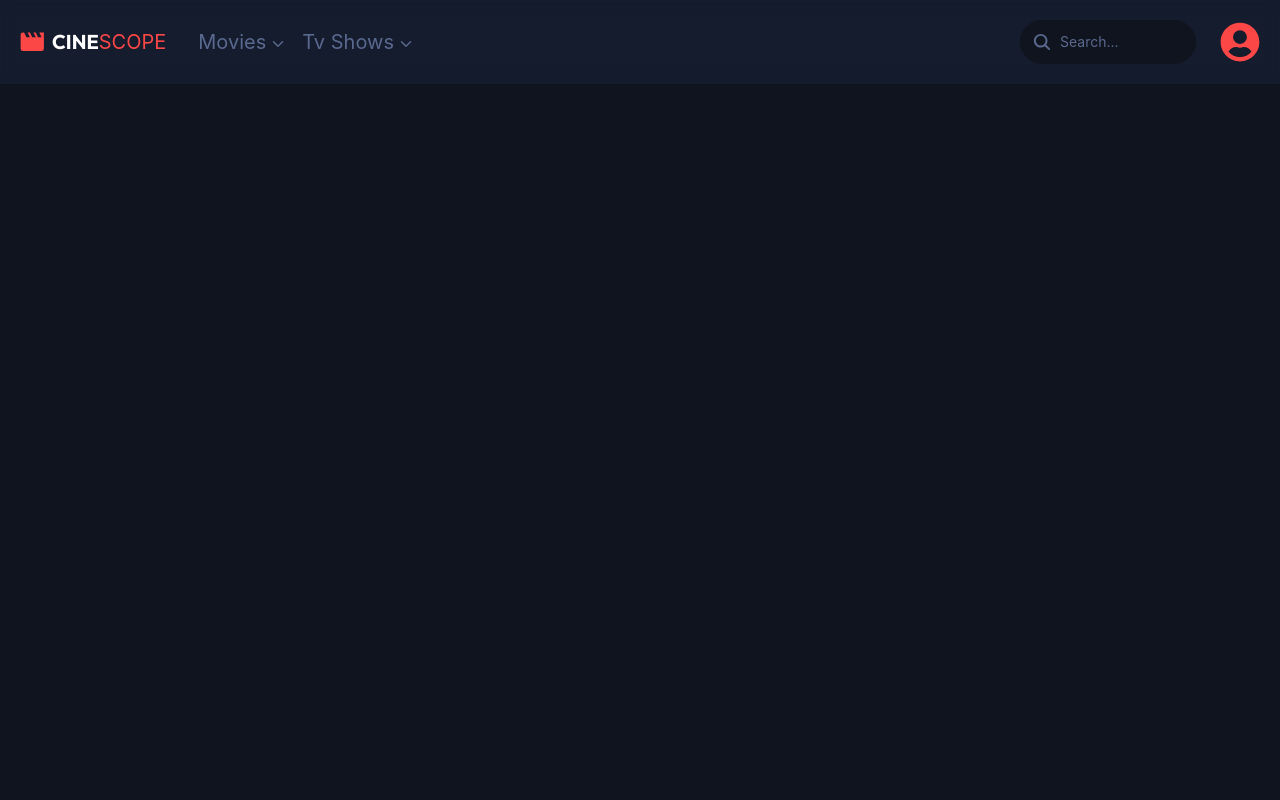
Test: Navbar dropdowns › closes the dropdown on Escape and on an outside click
Step 1. Click the button with aria-label "movies menu" → (242, 42), box [198,28,286,56]
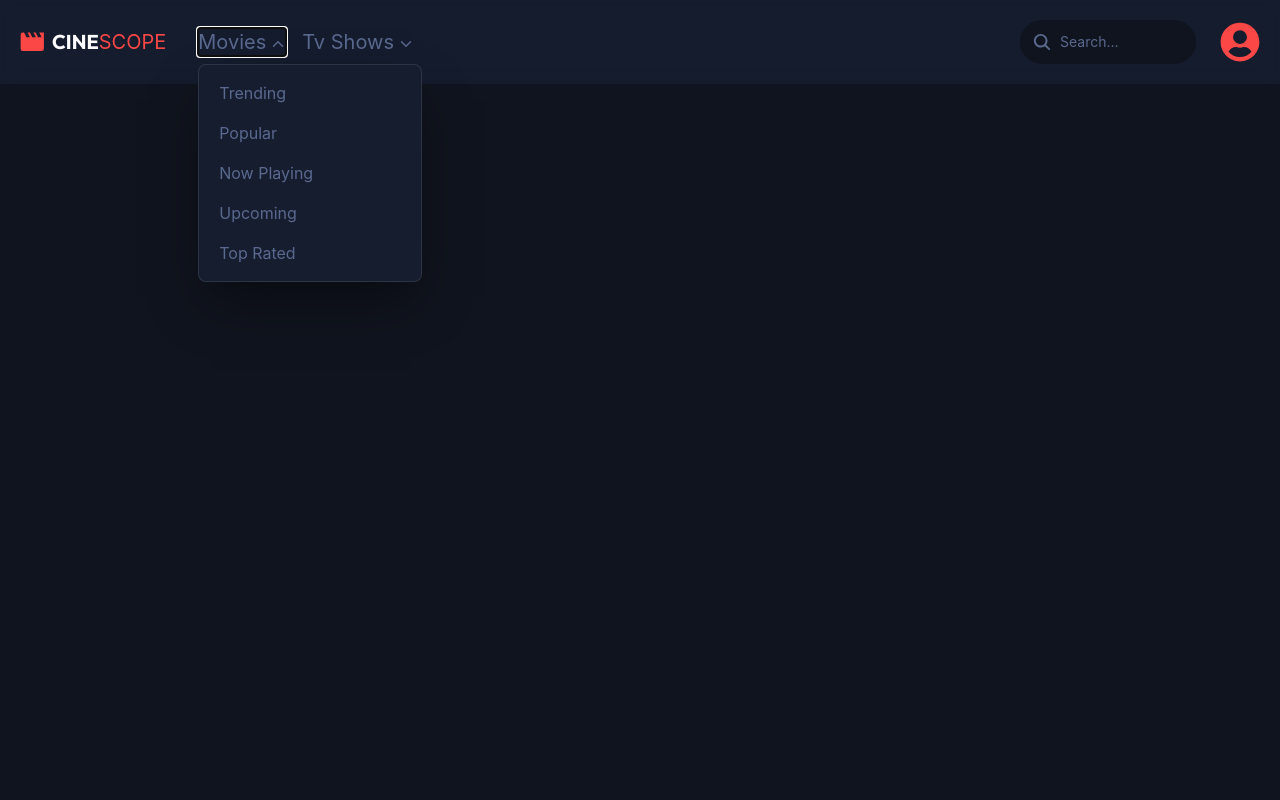
Check: the menu item "upcoming" is shown, box [219,203,297,223]
Step 2. Press Escape
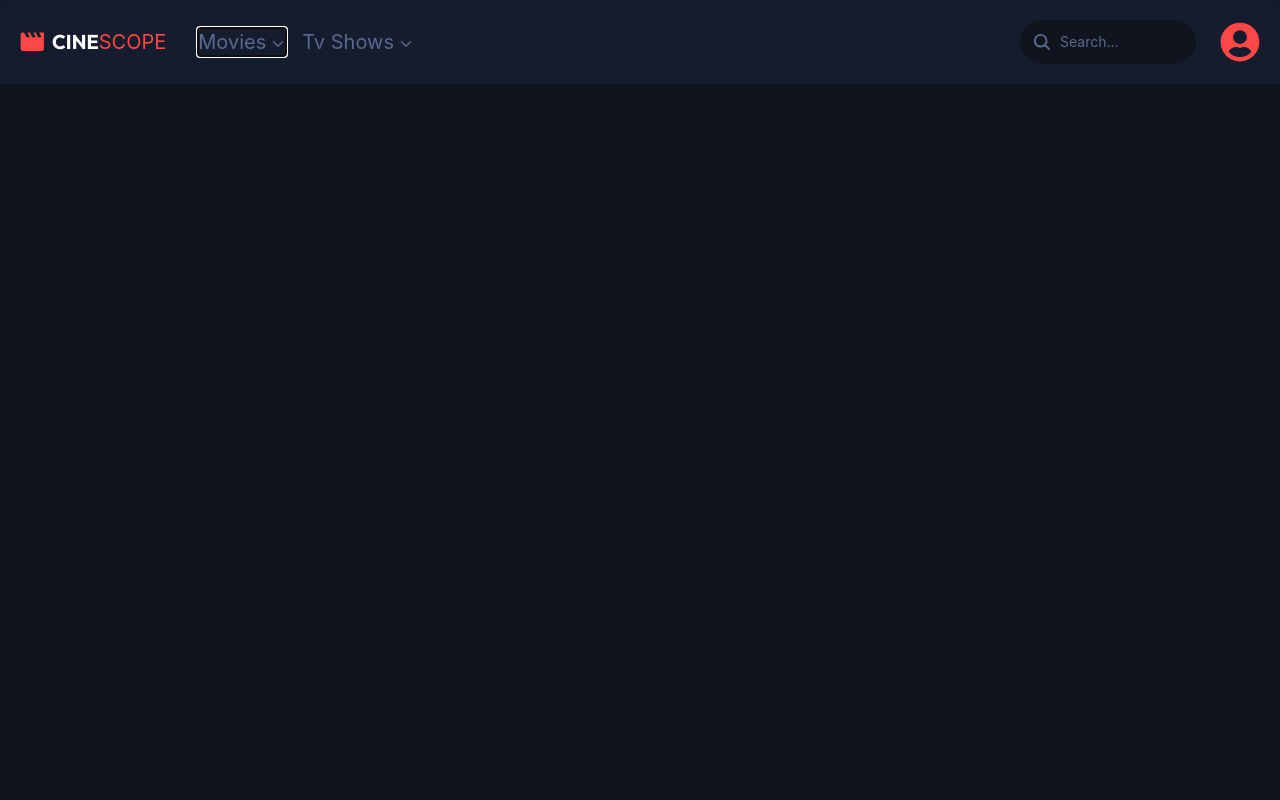
Check: the menu item "upcoming" is gone
Step 3. Click the button with aria-label "movies menu" → (242, 42), box [198,28,286,56]
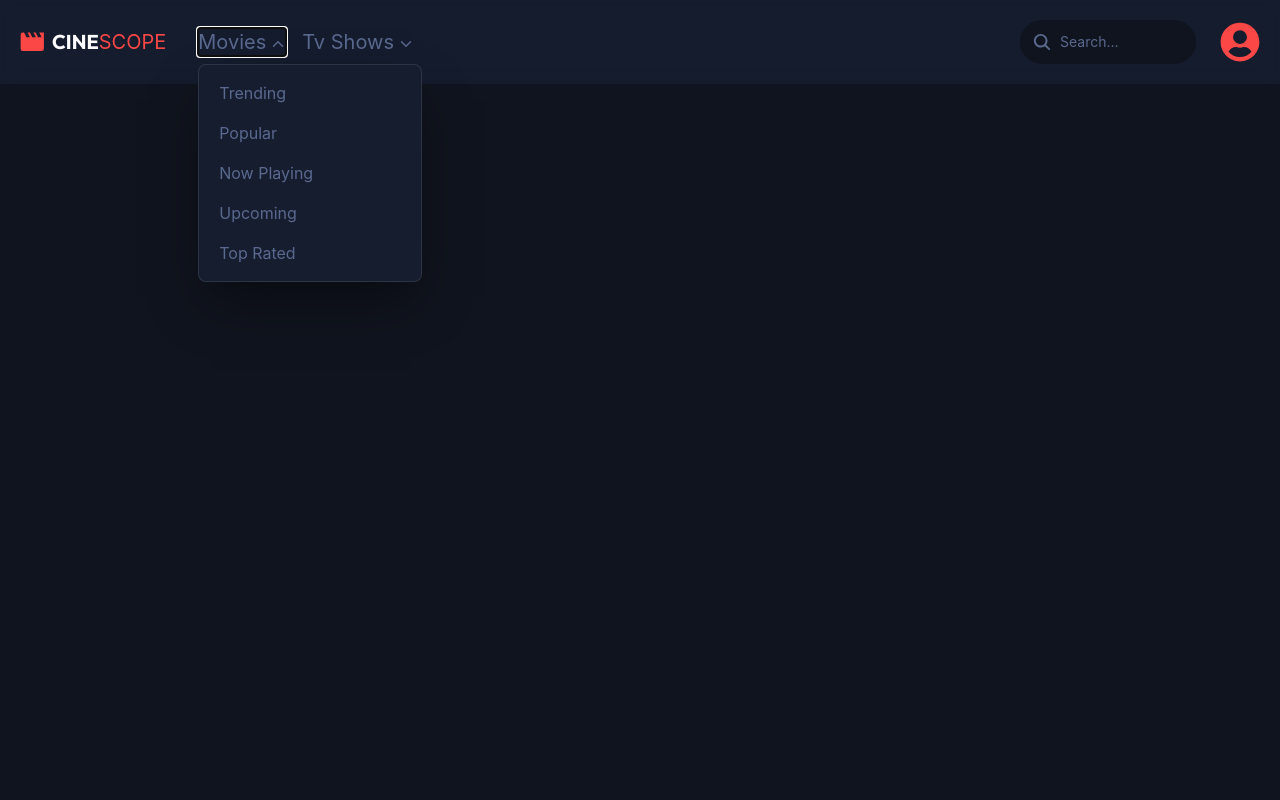
Check: the menu item "upcoming" is shown, box [219,203,297,223]
Step 4. Press the mouse on the element that starts with "CINE" → (640, 400), box [0,0,1279,799]
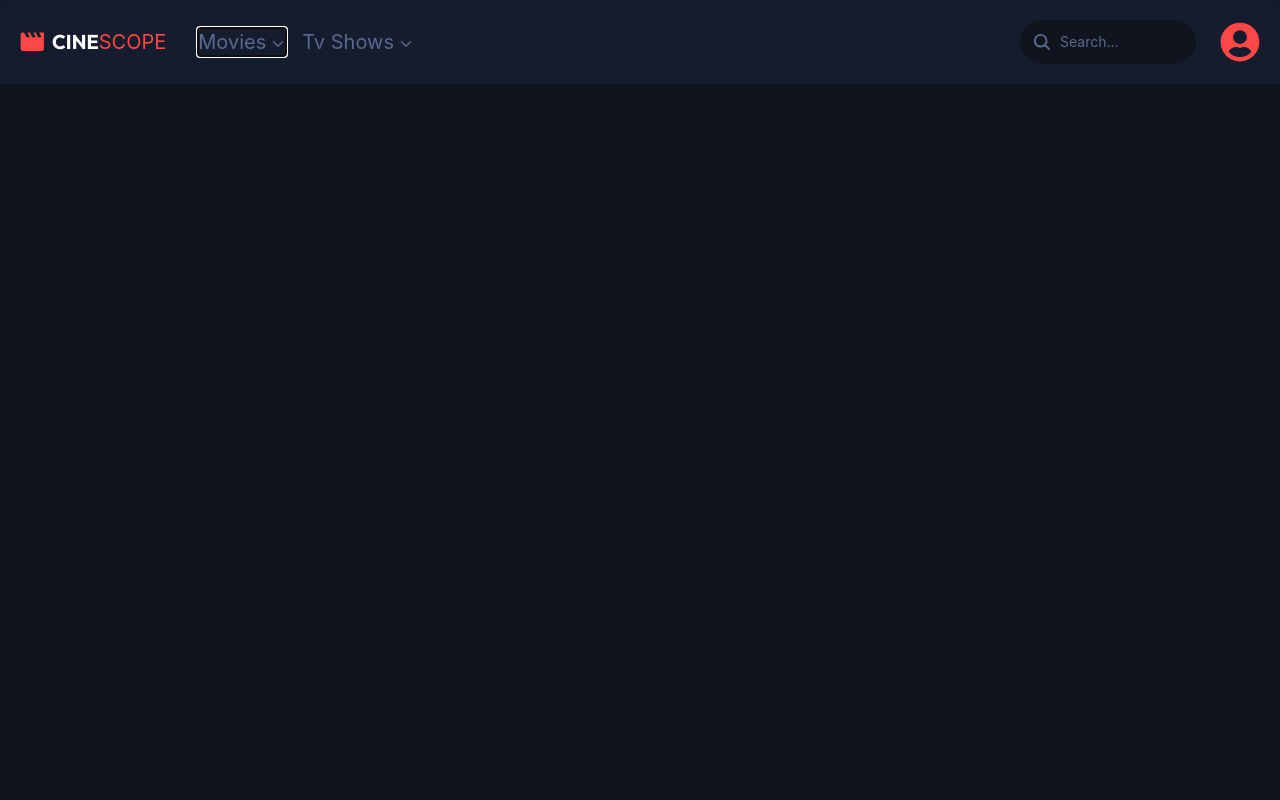
Check: the menu item "upcoming" is gone
